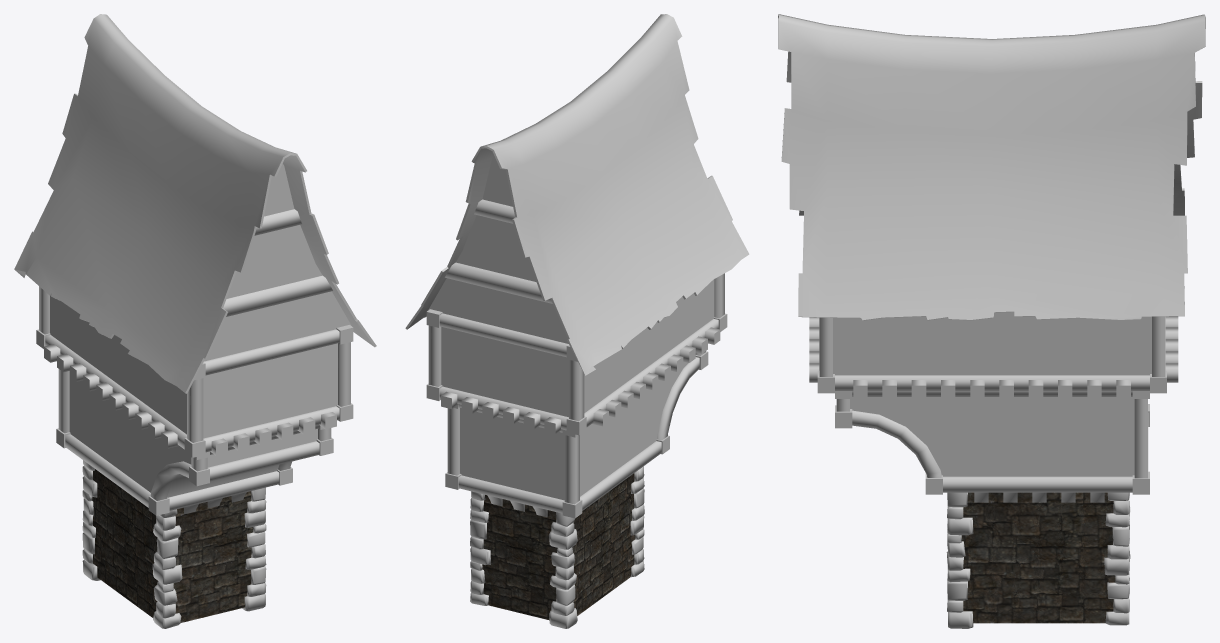
Rendered from build3.fbx.
The picture shows the model from 3 angles, left to right: view 1: azimuth 30°, elevation 25°; view 2: azimuth 150°, elevation 25°; view 3: azimuth 270°, elevation 25°; orthographic projection. The views are drawn at different scales.
Parts seen in each view (by area): view 1: polySurface2715; view 2: polySurface2715; view 3: polySurface2715.
Boxes of the visible parts, x1=… form: polySurface2715: x1=14, y1=14, x2=376, y2=628; polySurface2715: x1=405, y1=14, x2=749, y2=628; polySurface2715: x1=778, y1=14, x2=1205, y2=628.
Bounding box in the file's own units: 7.43 × 19.11 × 12.65.
